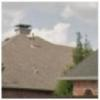chimneys: (13, 23, 33, 38)
